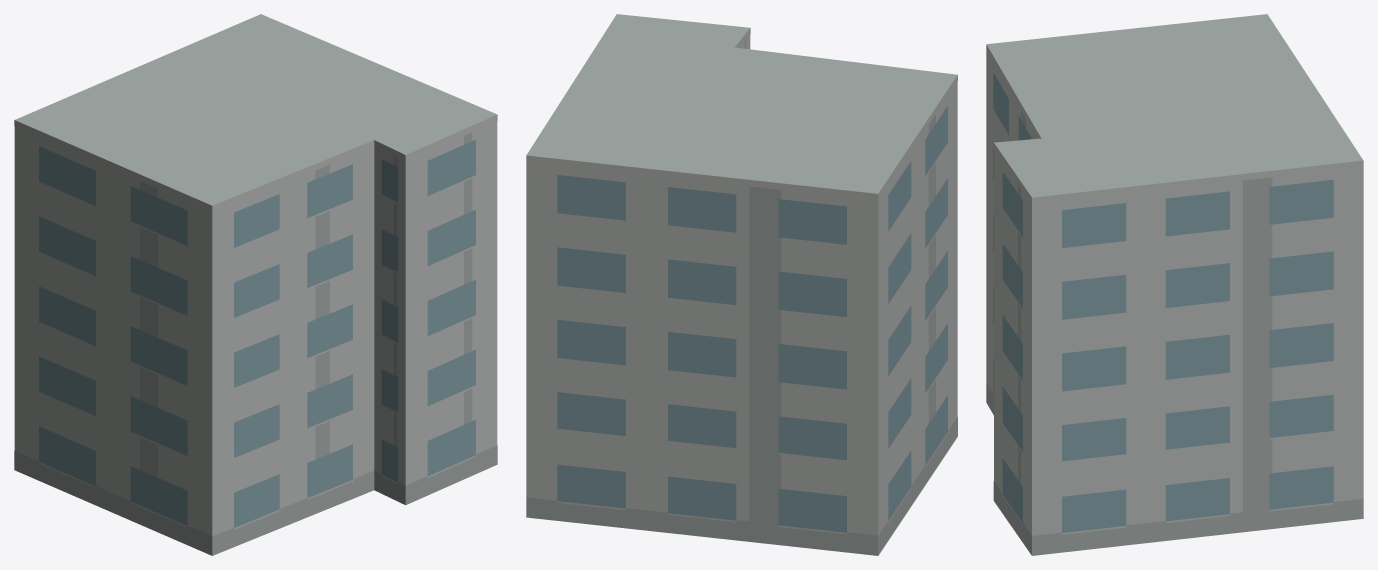
File: survey-upis-32923417.glb
3 views of the same model, side by side, from view 1: azimuth 30°, elevation 25°; view 2: azimuth 150°, elevation 25°; view 3: azimuth 270°, elevation 25° (orthographic). The views are drawn at different scales.
Visible parts, largest first — view 1: survey-upis-32923417.tmp; view 2: survey-upis-32923417.tmp; view 3: survey-upis-32923417.tmp.
Boxes of the visible parts, x1,y1,x2,y2 form: survey-upis-32923417.tmp: (14,14,497,555); survey-upis-32923417.tmp: (526,14,957,555); survey-upis-32923417.tmp: (986,14,1363,555).
Bounding box in the file's own units: 14.52 × 13.2 × 12.61.
